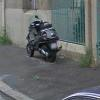Motorcycle: (20, 13, 66, 69)
